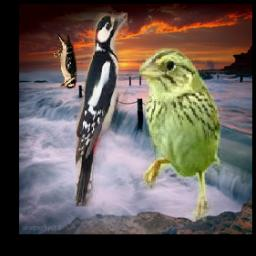Sparrow: (138, 49, 221, 223)
Woodpecker: (75, 14, 127, 207), (54, 33, 77, 89)
